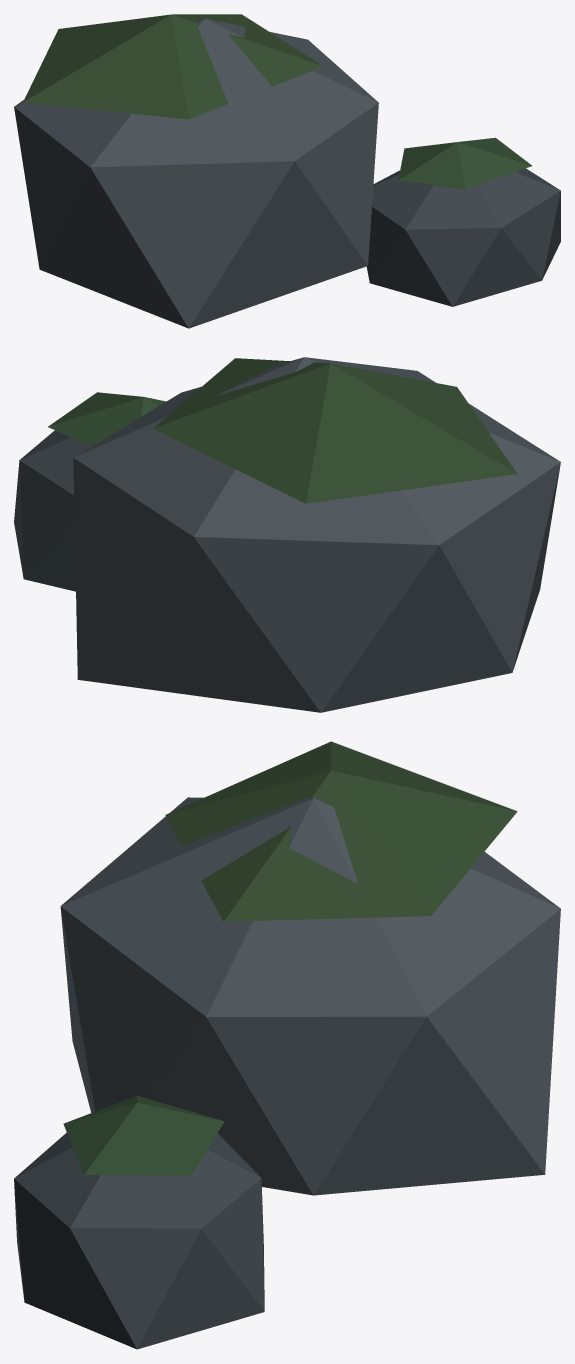
Rendered from rock_moss.glb.
3 renders of one model, top to bottom at view 1: azimuth 30°, elevation 25°; view 2: azimuth 150°, elevation 25°; view 3: azimuth 270°, elevation 25°, orthographic. The views are drawn at different scales.
Parts seen in each view (by area): view 1: rock_moss; view 2: rock_moss; view 3: rock_moss.
Boxes of the visible parts, left/top/right/bottom form: rock_moss: left=14, top=14, right=560, bottom=328; rock_moss: left=14, top=357, right=560, bottom=712; rock_moss: left=14, top=741, right=560, bottom=1349.
Bounding box in the file's own units: 0.8643 × 0.4488 × 0.6202.
